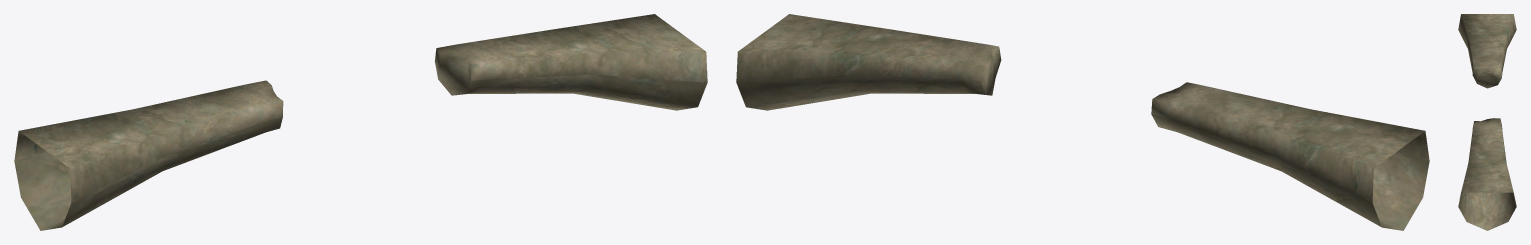
The model's file is OVERHILL_A_01_CAVE_BRIDGE_200.fbx.
The picture shows the model from 3 angles, left to right: view 1: azimuth 30°, elevation 25°; view 2: azimuth 150°, elevation 25°; view 3: azimuth 270°, elevation 25°; orthographic projection. The views are drawn at different scales.
Parts seen in each view (by area): view 1: OVERHILL_A_01_CAVE_BRIDGE_200; view 2: OVERHILL_A_01_CAVE_BRIDGE_200; view 3: OVERHILL_A_01_CAVE_BRIDGE_200.
Part boxes in pixels (x1=…): OVERHILL_A_01_CAVE_BRIDGE_200: x1=14, y1=14, x2=707, y2=230; OVERHILL_A_01_CAVE_BRIDGE_200: x1=736, y1=14, x2=1429, y2=230; OVERHILL_A_01_CAVE_BRIDGE_200: x1=1458, y1=14, x2=1516, y2=230.
Size of the model in its own units: 110916 by 19637 by 17143.
1 material, 1 textured.
